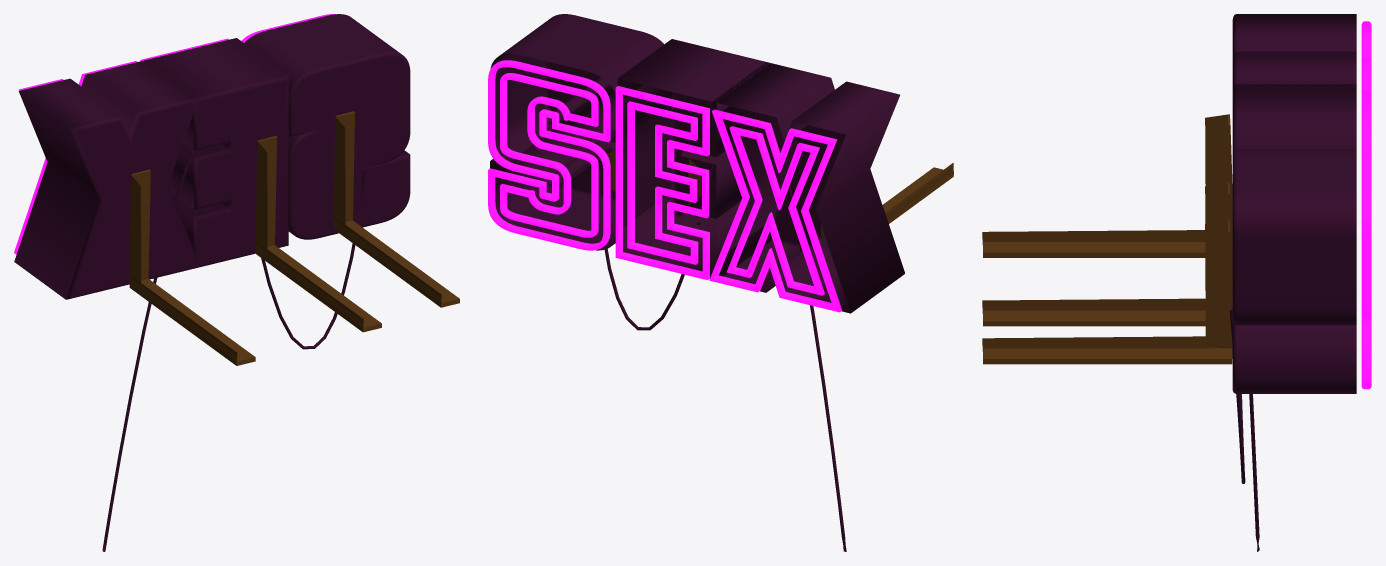
Rendered from neon_sign.glb.
The picture shows the model from 3 angles, left to right: view 1: azimuth 30°, elevation 25°; view 2: azimuth 150°, elevation 25°; view 3: azimuth 270°, elevation 25°; orthographic projection. The views are drawn at different scales.
Parts seen in each view (by area): view 1: Object_6, Object_5, Object_2; view 2: Object_6, Object_2, Object_3, Object_5; view 3: Object_6, Object_5, Object_2.
Part boxes in pixels (box(x1,y1,x2,y2)): Object_6: box(14, 14, 410, 551); Object_5: box(129, 111, 459, 365); Object_2: box(14, 14, 335, 254); Object_6: box(490, 14, 904, 551); Object_2: box(488, 60, 841, 312); Object_3: box(500, 73, 824, 295); Object_5: box(607, 150, 953, 237); Object_6: box(1229, 14, 1356, 551); Object_5: box(982, 114, 1232, 364); Object_2: box(1361, 21, 1371, 389).
Bounding box in the file's own units: 4.31 × 5.26 × 3.62.
